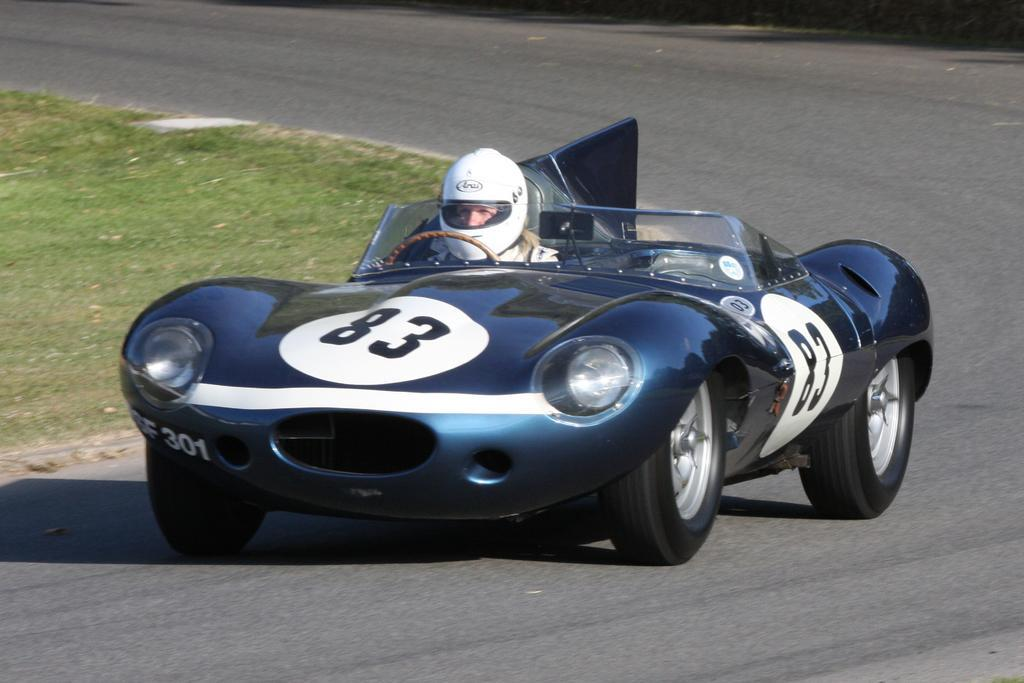helmet: (437, 147, 529, 262)
